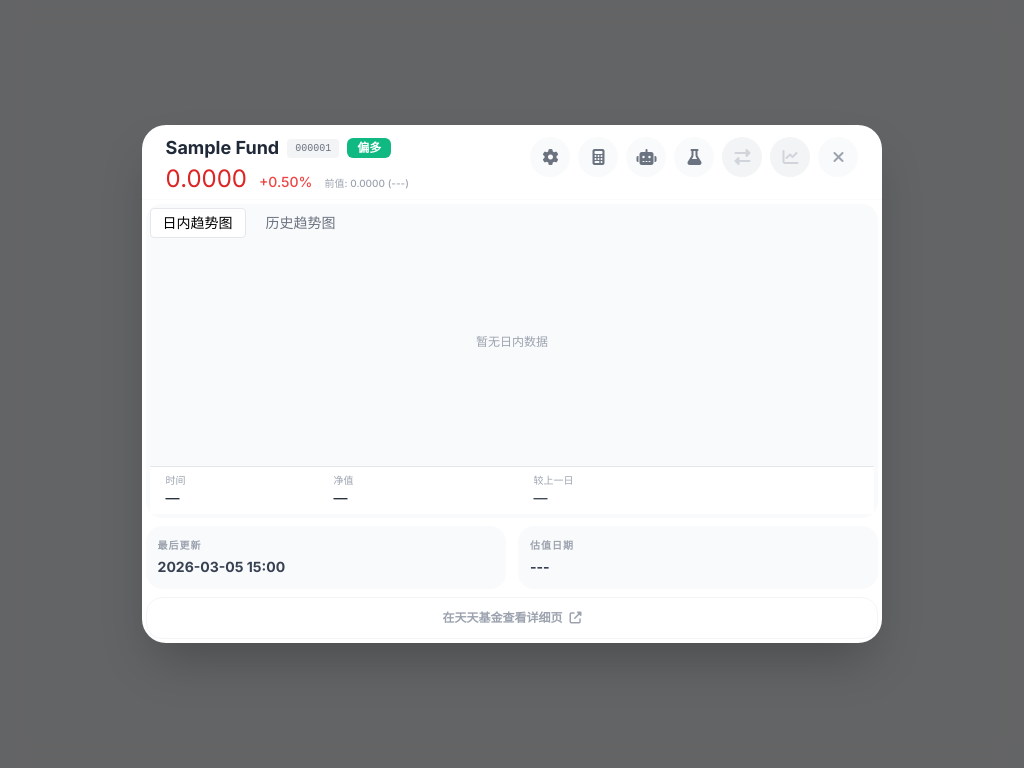
Test: 基金份额计算器 › 无估值且无确认净值时回退到最近历史净值计算
The image size is (1024, 768).
Expected: the button "历史趋势图" is shown, top-left (254, 209), bottom-right (348, 237)
Click the button named "基金份额计算器": point(598, 157) top-left (578, 137), bottom-right (618, 177)
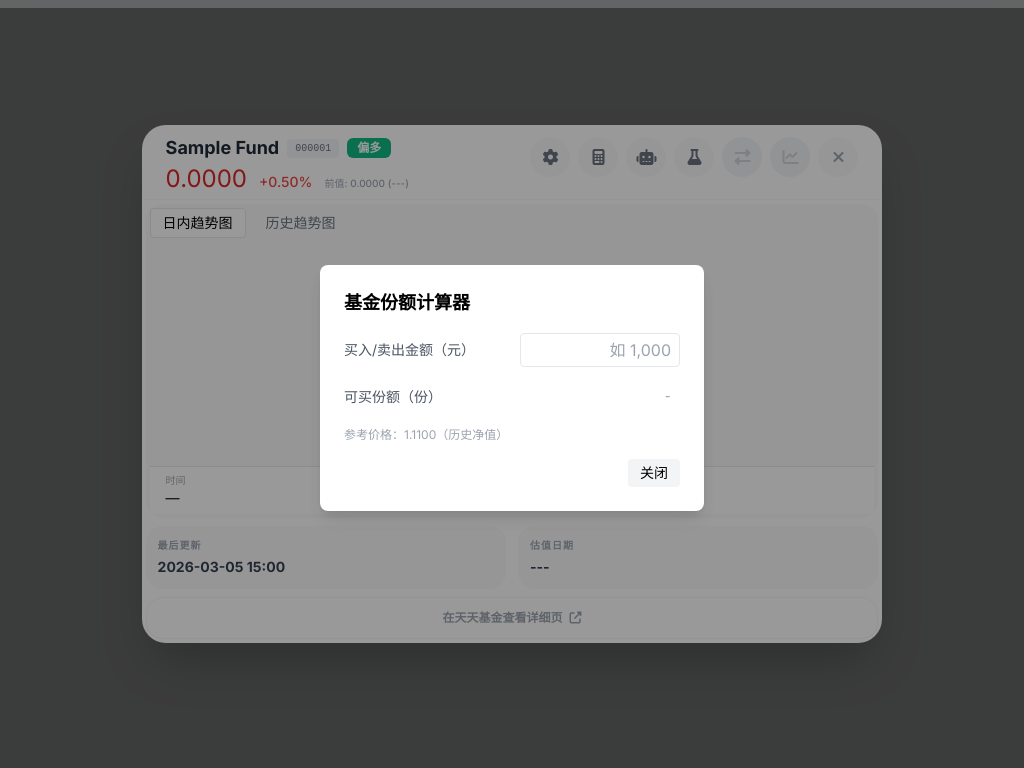
In the field named "计算器金额输入": point(600, 350) top-left (520, 333), bottom-right (680, 367), type "1000"
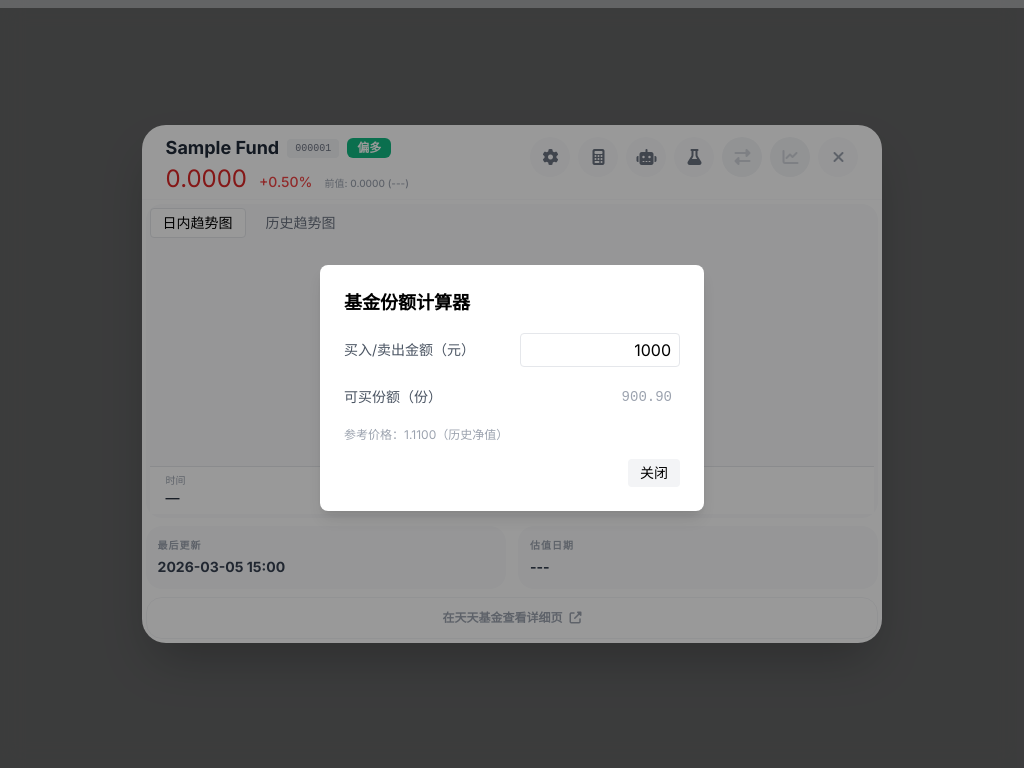
Result: the text "参考价格：1.1100（历史净值）" is shown at top-left (344, 427), bottom-right (508, 442)
Result: the text named "计算器份额输出" reads "900.90" at top-left (622, 389), bottom-right (672, 405)
